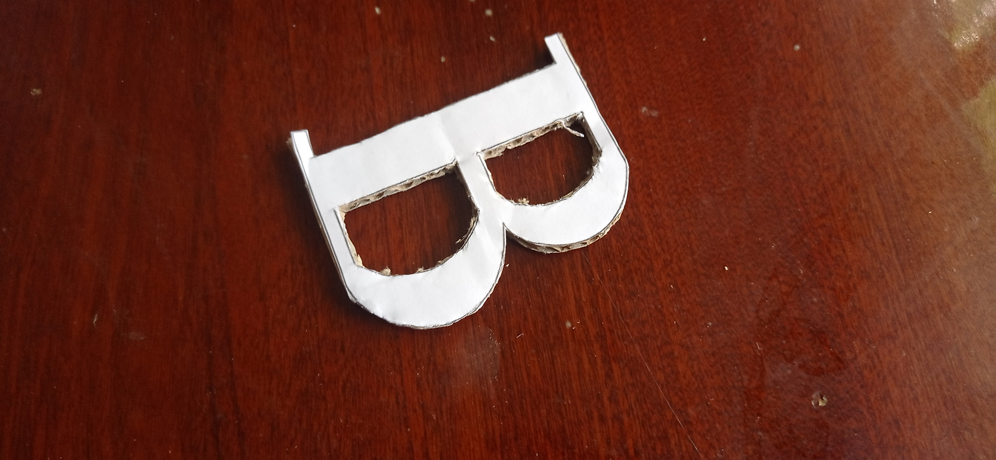v: (286, 34, 629, 332)
